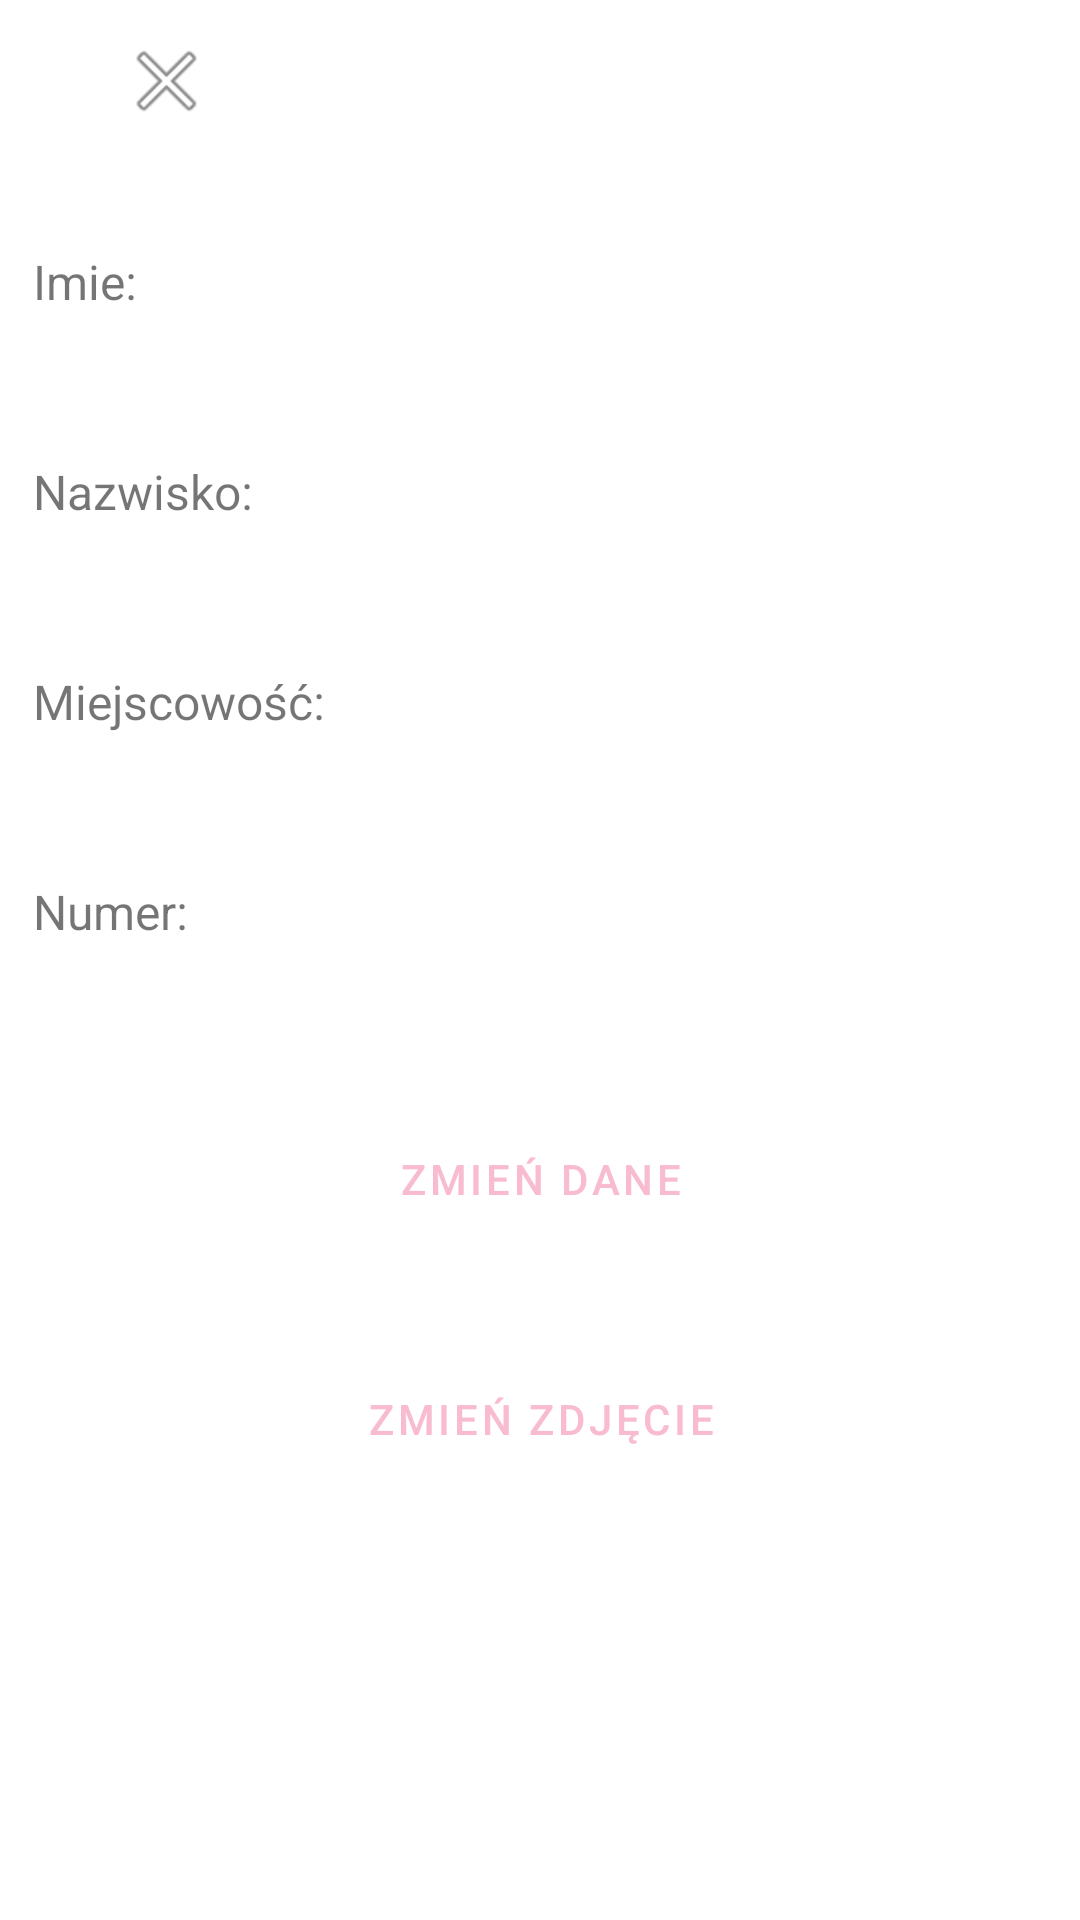

Icons on this 1080w x 1920h Android screen, each with the point to tap as (x,y):
close clear cancel: (166,81)
